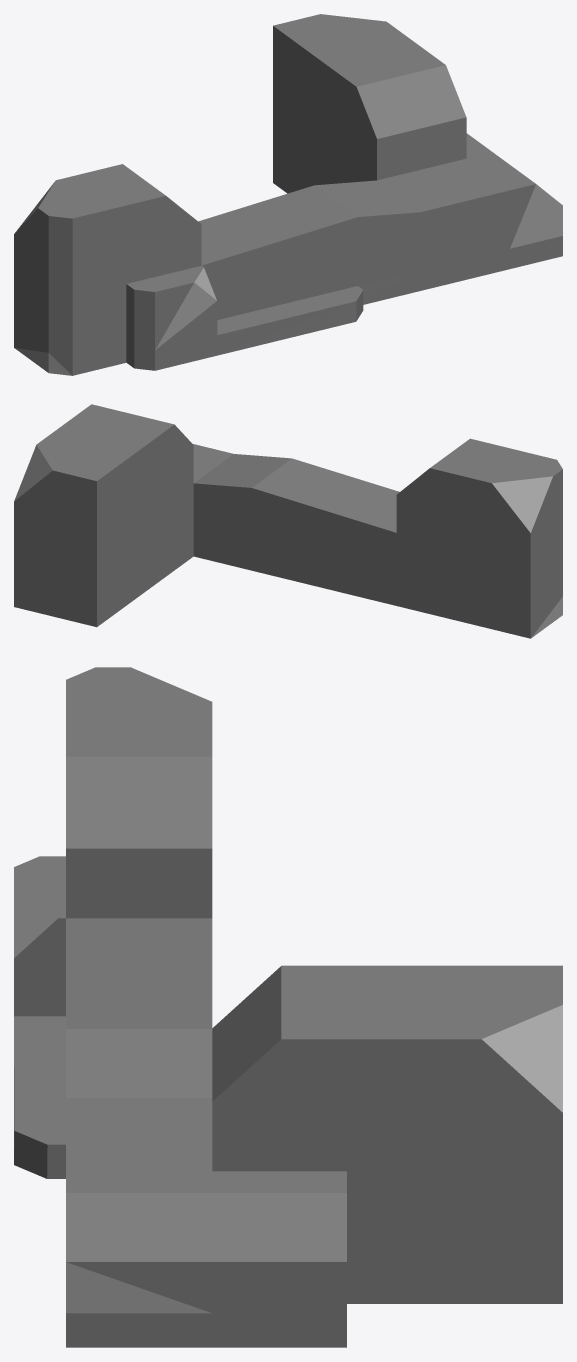
Rendered from ruin_10.fbx.
The picture shows the model from 3 angles, top to bottom: view 1: azimuth 30°, elevation 25°; view 2: azimuth 150°, elevation 25°; view 3: azimuth 270°, elevation 25°; orthographic projection. The views are drawn at different scales.
Visible parts, largest first — view 1: ruin_10; view 2: ruin_10; view 3: ruin_10.
Boxes of the visible parts, x1,y1,x2,y2 form: ruin_10: (14, 14, 562, 375); ruin_10: (14, 404, 562, 638); ruin_10: (14, 667, 562, 1347).
Size of the model in its own units: 328 by 97.38 by 183.
